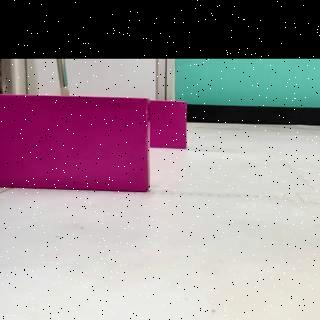xparking: (3, 99, 146, 190), (150, 103, 184, 148)
